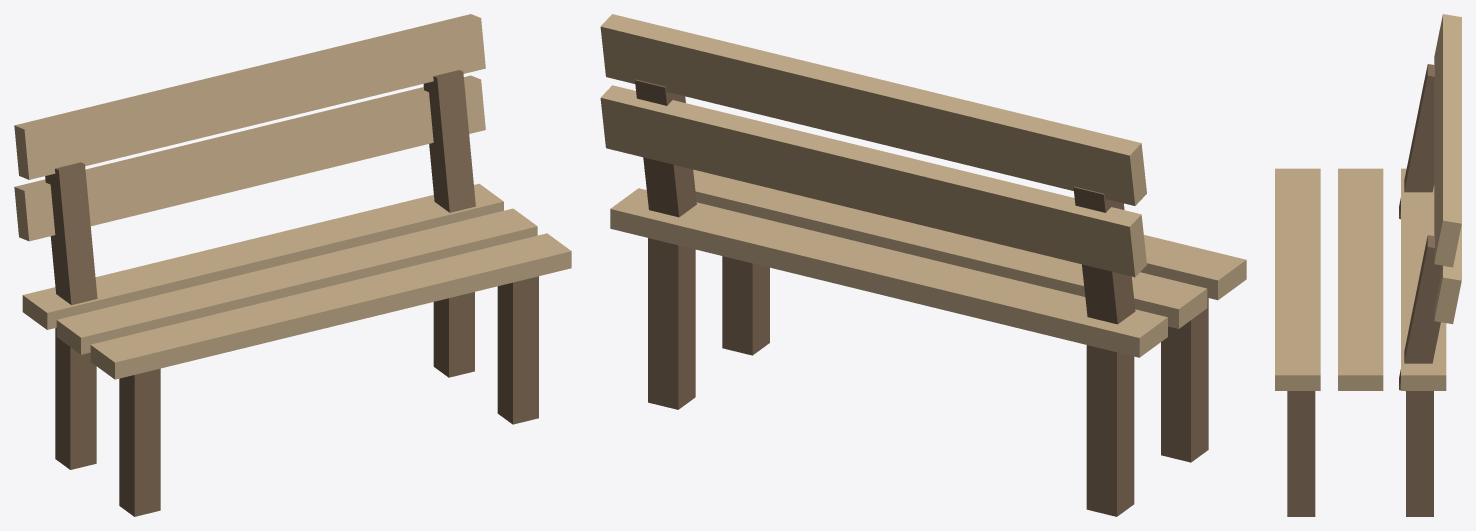
The model's file is bench.glb.
3 views of the same model, side by side, from view 1: azimuth 30°, elevation 25°; view 2: azimuth 150°, elevation 25°; view 3: azimuth 270°, elevation 25° (orthographic). The views are drawn at different scales.
Parts seen in each view (by area): view 1: bench; view 2: bench; view 3: bench.
Part boxes in pixels (left/top/right/bottom): bench: left=14, top=14, right=571, bottom=516; bench: left=600, top=14, right=1246, bottom=516; bench: left=1275, top=14, right=1461, bottom=516.
Size of the model in its own units: 1.4 by 0.9738 by 0.5346.
